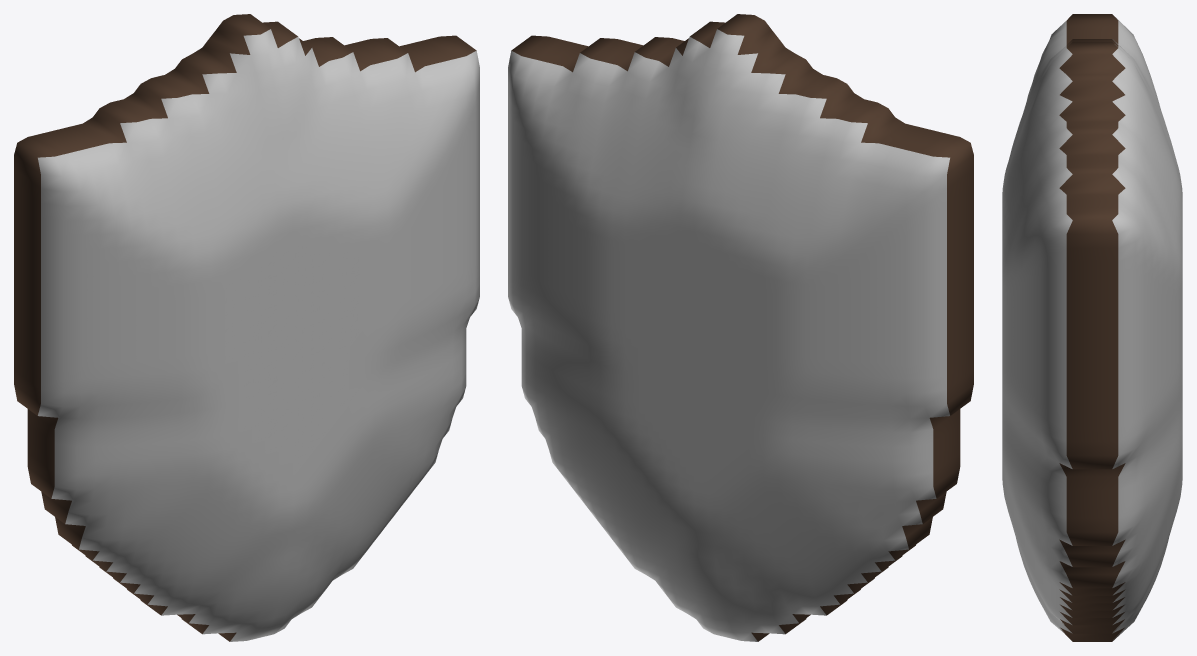
Rendered from crest.glb.
The picture shows the model from 3 angles, left to right: view 1: azimuth 30°, elevation 25°; view 2: azimuth 150°, elevation 25°; view 3: azimuth 270°, elevation 25°; orthographic projection. The views are drawn at different scales.
Visible parts, largest first — view 1: crest; view 2: crest; view 3: crest.
Part boxes in pixels (bbox=[...]): crest: bbox=[14, 14, 479, 641]; crest: bbox=[508, 14, 973, 641]; crest: bbox=[1002, 14, 1182, 641].
Bounding box in the file's own units: 0.4364 × 0.5727 × 0.161.
